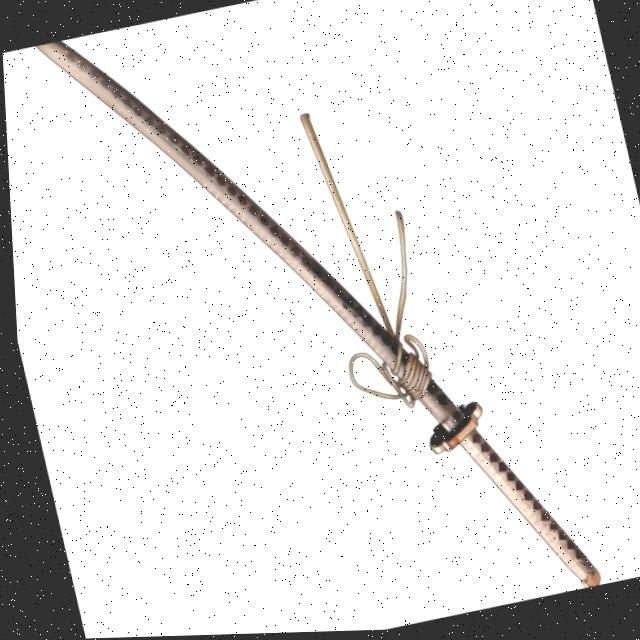knife: (26, 0, 599, 639)
